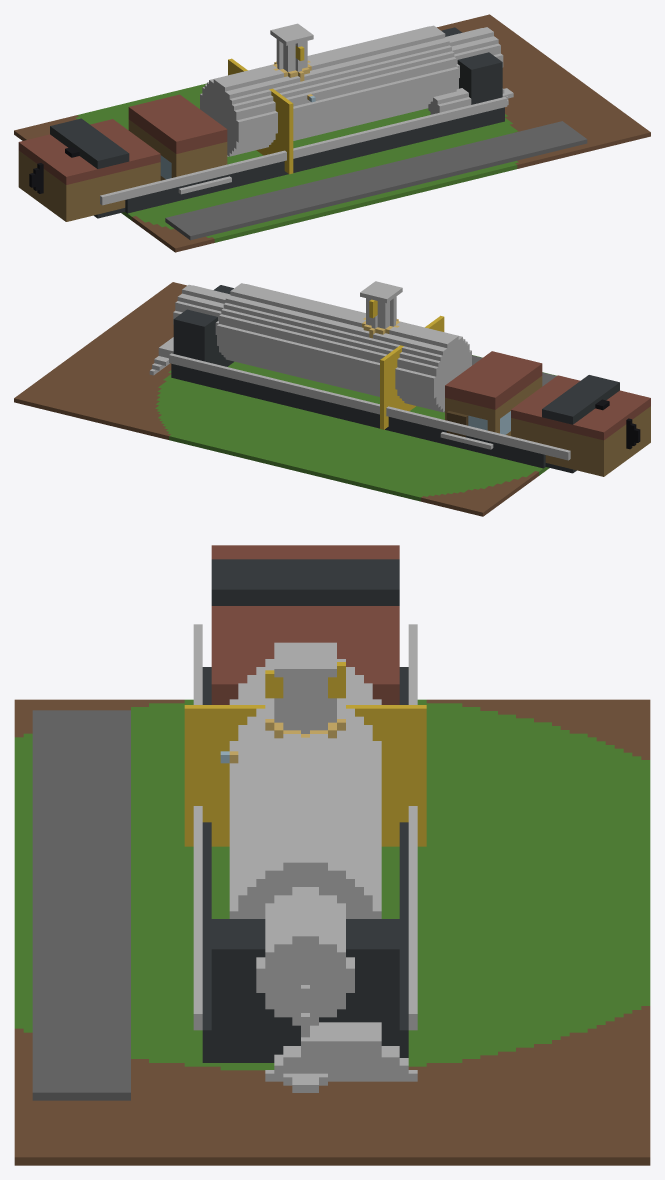
The picture shows the model from 3 angles, top to bottom: view 1: azimuth 30°, elevation 25°; view 2: azimuth 150°, elevation 25°; view 3: azimuth 270°, elevation 25°; orthographic projection. The views are drawn at different scales.
Size of the model in its own units: 139 by 29 by 71.
